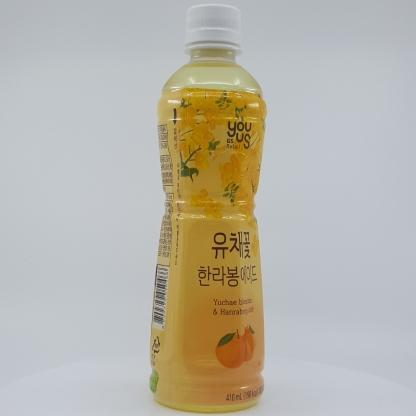-------------410ML: (150, 3, 267, 413)
